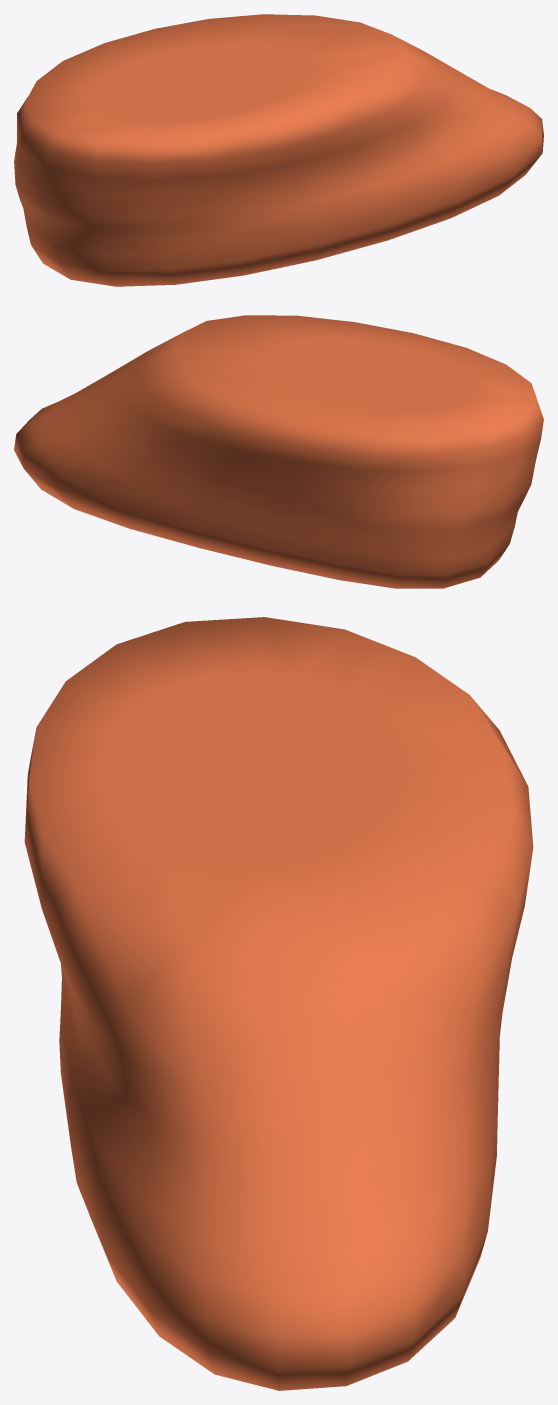
The model's file is StoneShoe.fbx.
3 views of the same model, one above another, from view 1: azimuth 30°, elevation 25°; view 2: azimuth 150°, elevation 25°; view 3: azimuth 270°, elevation 25° (orthographic). The views are drawn at different scales.
Parts seen in each view (by area): view 1: BaseShoe.001; view 2: BaseShoe.001; view 3: BaseShoe.001.
Part boxes in pixels (bbox=[...]): BaseShoe.001: bbox=[14, 14, 543, 286]; BaseShoe.001: bbox=[14, 315, 543, 588]; BaseShoe.001: bbox=[24, 617, 533, 1390].
Bounding box in the file's own units: 6.22 × 4.18 × 14.08.
